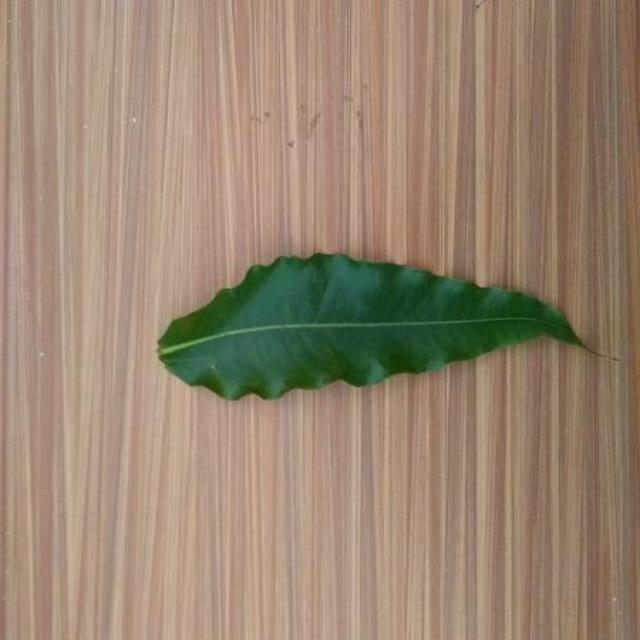ashoka: (158, 254, 587, 399)
defectedashoka: (158, 254, 590, 399)
